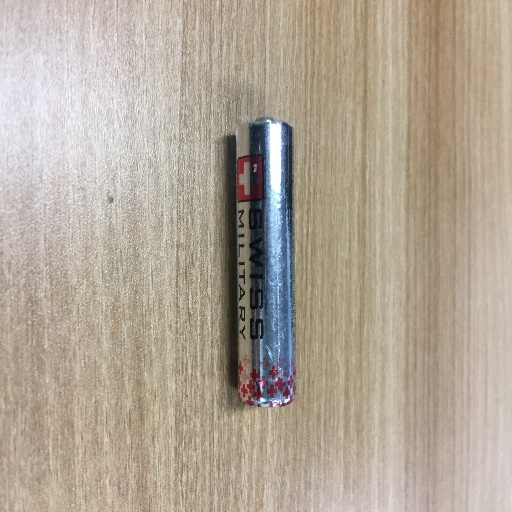Battery_0: (211, 103, 310, 418)
